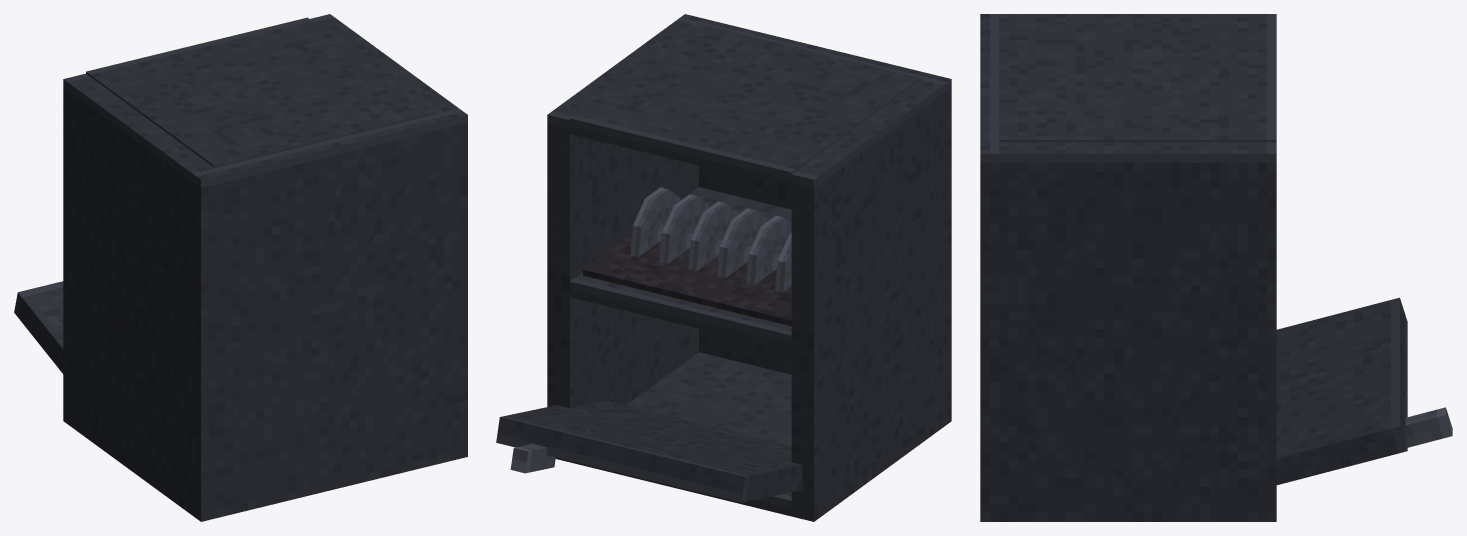
The model's file is f_vitrified_dishwasher.glb.
The picture shows the model from 3 angles, left to right: view 1: azimuth 30°, elevation 25°; view 2: azimuth 150°, elevation 25°; view 3: azimuth 270°, elevation 25°; orthographic projection. The views are drawn at different scales.
Parts seen in each view (by area): view 1: block_back, block_side--0.32499999999999996, block_shelf-2, block_glassy-door-slab, block_side-0.32499999999999996; view 2: block_side--0.32499999999999996, block_shelf-2, block_side-0.32499999999999996, block_glassy-door-slab, block_shelf-0, block_plate-buried-in-black-sand (×6), block_back, block_black-sand-covered-rack, block_shelf-1, block_glassy-handle; view 3: block_side-0.32499999999999996, block_shelf-2, block_glassy-door-slab, block_back, block_side--0.32499999999999996, block_glassy-handle.
Boxes of the visible parts, <box> form: block_back: <box>192,108,467,521</box>; block_side--0.32499999999999996: <box>63,73,214,514</box>; block_shelf-2: <box>86,17,436,167</box>; block_glassy-door-slab: <box>14,281,63,373</box>; block_side-0.32499999999999996: <box>310,14,458,113</box>; block_side--0.32499999999999996: <box>791,80,942,521</box>; block_shelf-2: <box>570,24,920,187</box>; block_side-0.32499999999999996: <box>547,20,698,462</box>; block_glassy-door-slab: <box>496,400,802,502</box>; block_shelf-0: <box>570,352,791,516</box>; block_plate-buried-in-black-sand (×6): <box>630,187,791,292</box>; block_back: <box>677,14,951,427</box>; block_black-sand-covered-rack: <box>583,234,791,326</box>; block_shelf-1: <box>570,187,791,351</box>; block_glassy-handle: <box>510,444,555,473</box>; block_side-0.32499999999999996: <box>999,142,1276,521</box>; block_shelf-2: <box>999,23,1276,142</box>; block_glassy-door-slab: <box>1276,297,1407,485</box>; block_back: <box>980,14,998,521</box>; block_side--0.32499999999999996: <box>999,14,1276,23</box>; block_glassy-handle: <box>1405,407,1452,447</box>.
Size of the model in its own units: 0.71 by 0.875 by 1.01.
Materials: 2 (2 with a texture image).
